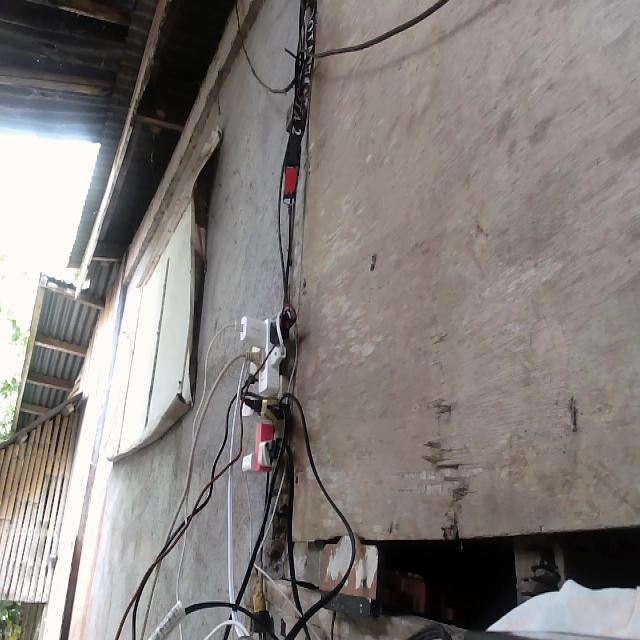-: (228, 308, 295, 472)
